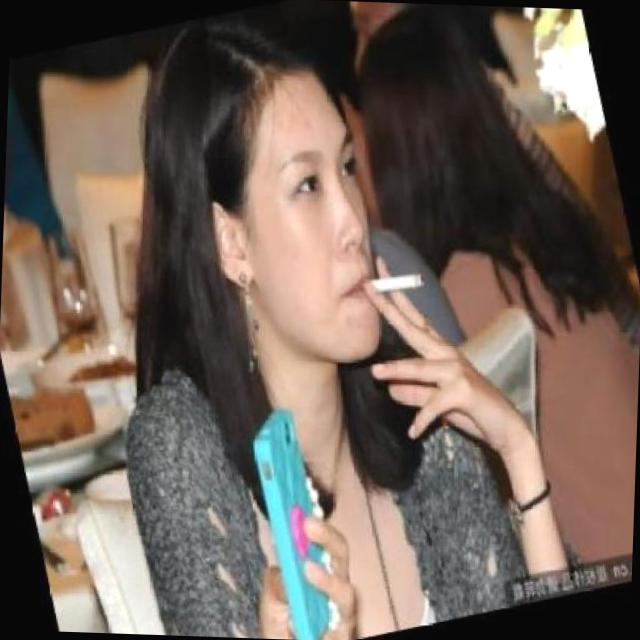smoke: (360, 263, 430, 308)
